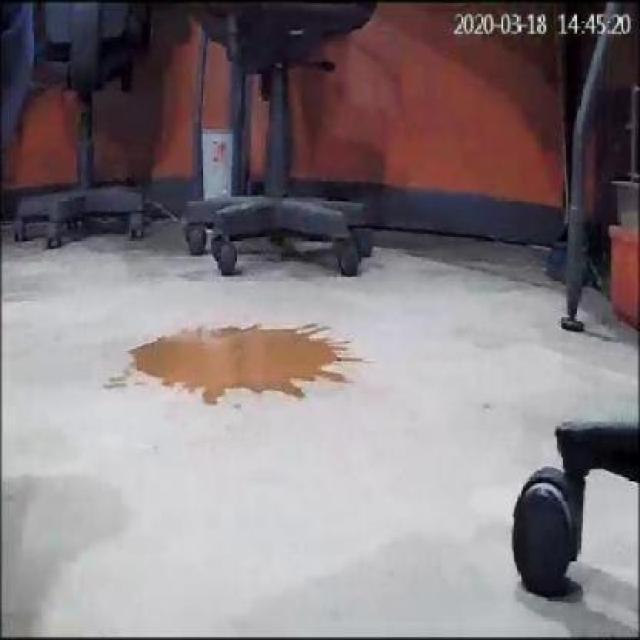spillage: (128, 326, 349, 406)
